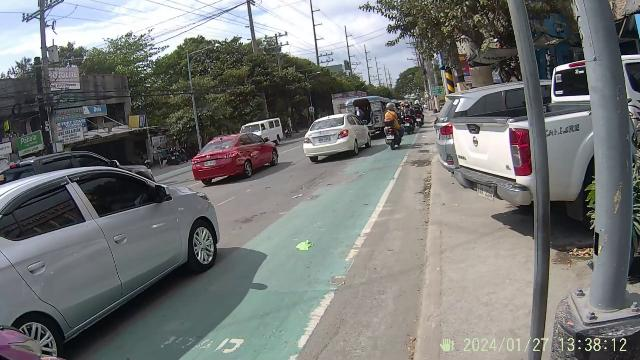car: (303, 114, 371, 162)
utility_post: (302, 0, 334, 70)
